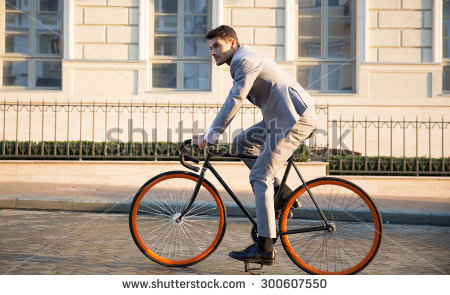bikerider: (129, 24, 386, 274)
